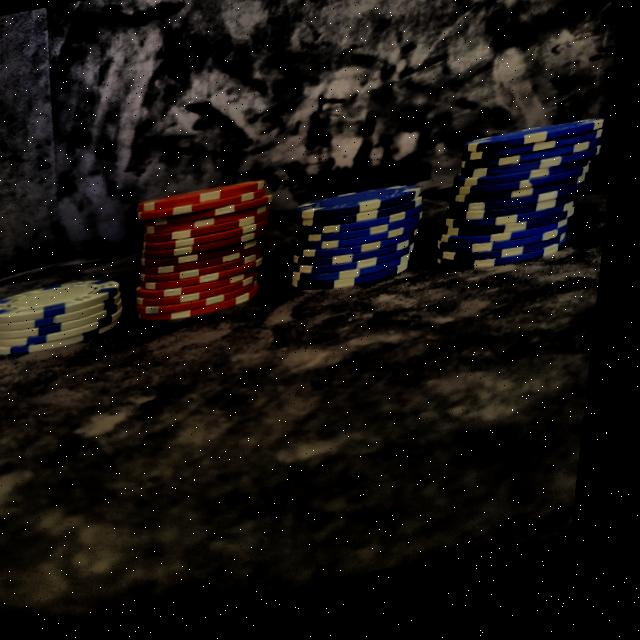Chip: (438, 112, 624, 304), (127, 159, 291, 345), (295, 175, 441, 317), (0, 252, 151, 375)
